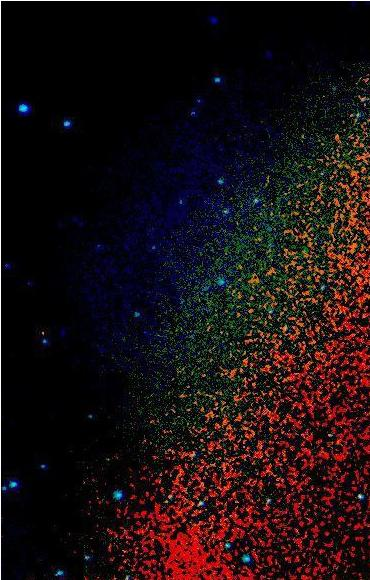star: (26, 315, 56, 345)
